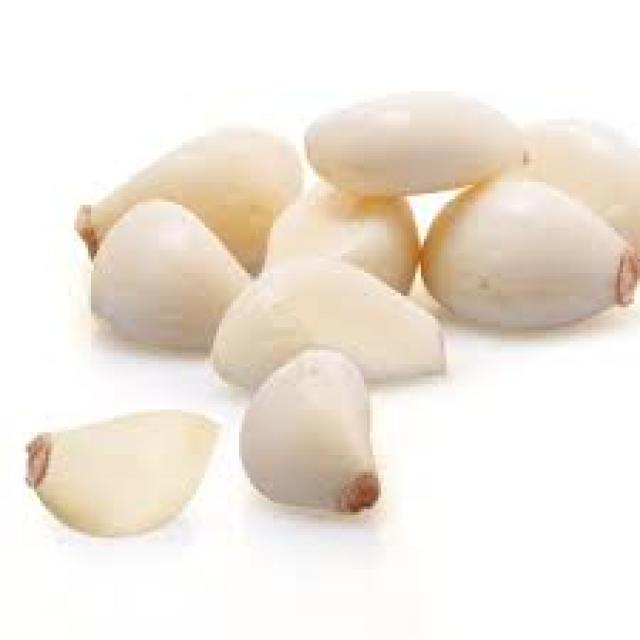garlic: (63, 68, 637, 438)
